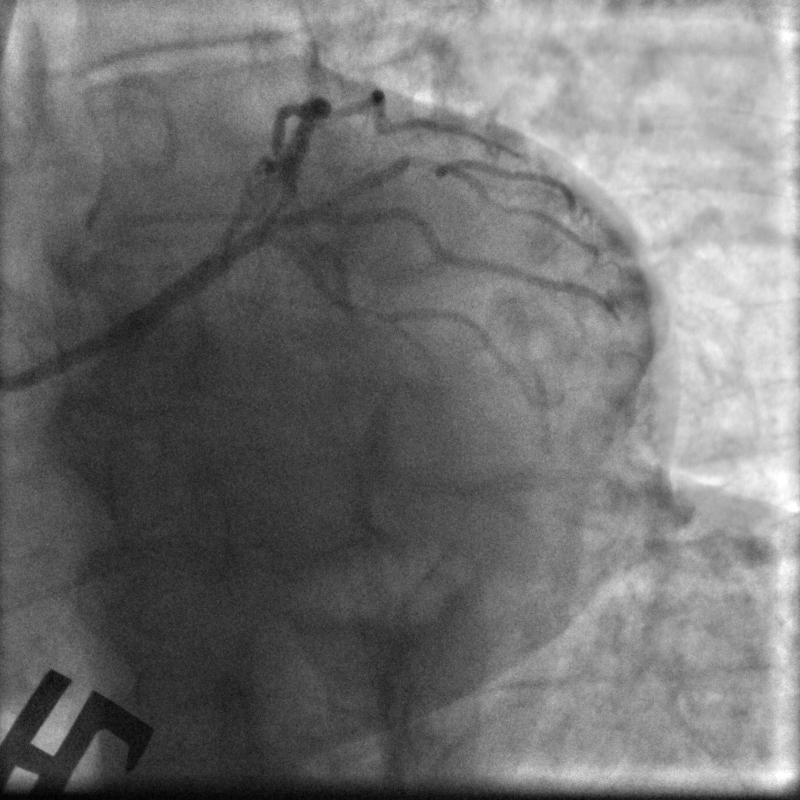Stenosis: (394, 147, 451, 183)
